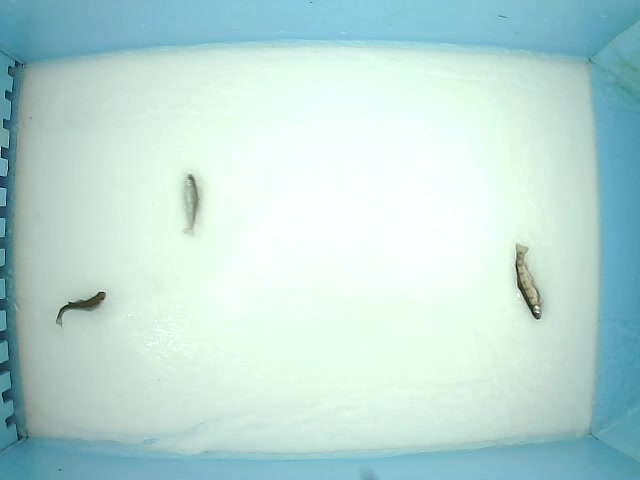fish: (512, 241, 544, 323), (52, 290, 108, 328), (180, 170, 201, 235)
